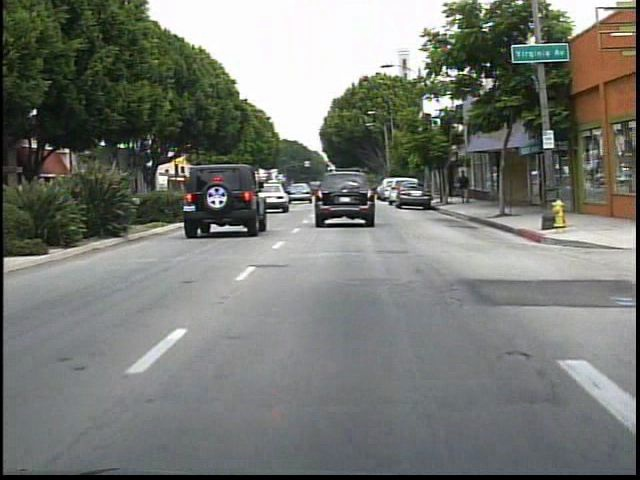person: (454, 169, 474, 209)
